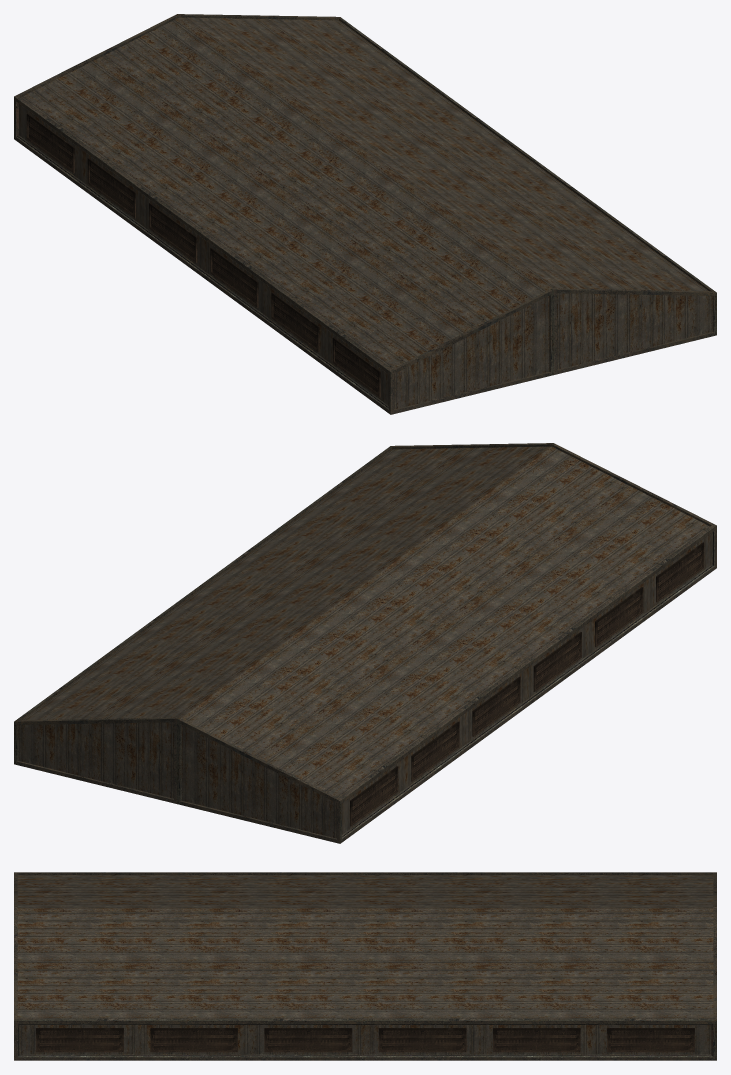
The model's file is roof_mh_4_b_4.glb.
3 views of the same model, one above another, from view 1: azimuth 30°, elevation 25°; view 2: azimuth 150°, elevation 25°; view 3: azimuth 270°, elevation 25° (orthographic). The views are drawn at different scales.
Parts seen in each view (by area): view 1: roof_mh_4_b_4; view 2: roof_mh_4_b_4; view 3: roof_mh_4_b_4.
Part boxes in pixels (x1,y1,x2,y2): roof_mh_4_b_4: (14,14,716,414); roof_mh_4_b_4: (14,443,716,843); roof_mh_4_b_4: (14,872,716,1060).
Bounding box in the file's own units: 8 × 2 × 16.
6 materials, 6 textured.
